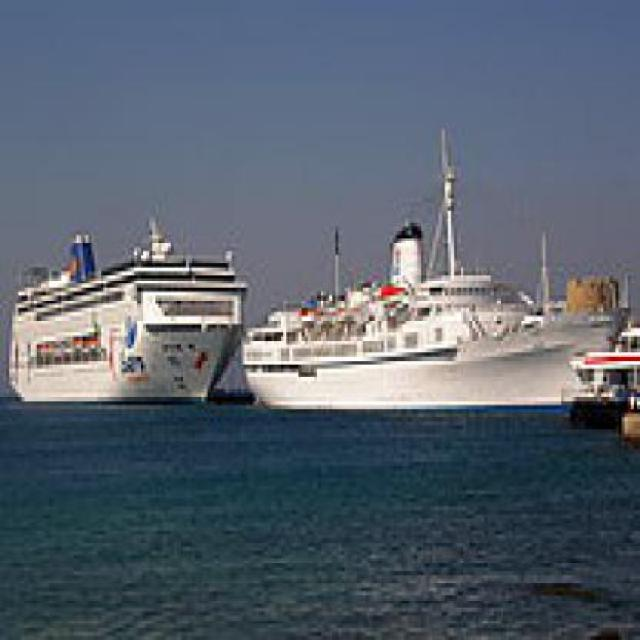cruise: (236, 155, 639, 427), (3, 220, 254, 423)
